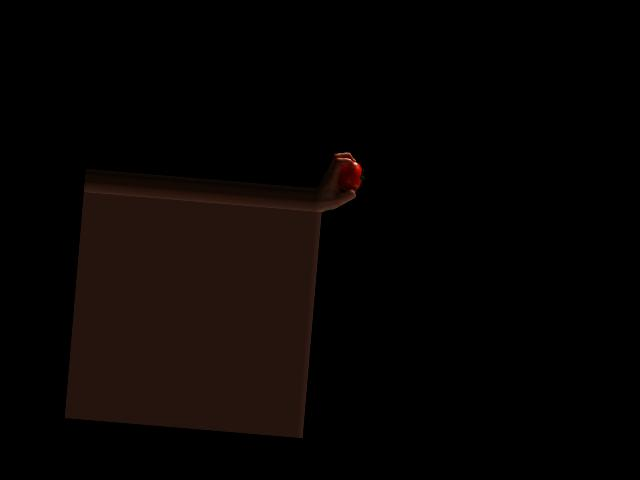tomato: (338, 161, 365, 192)
